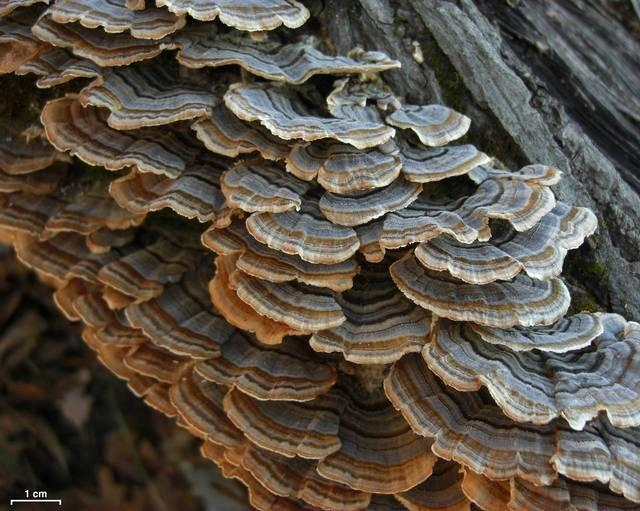Non-edible Mushroom: (0, 0, 639, 510)
